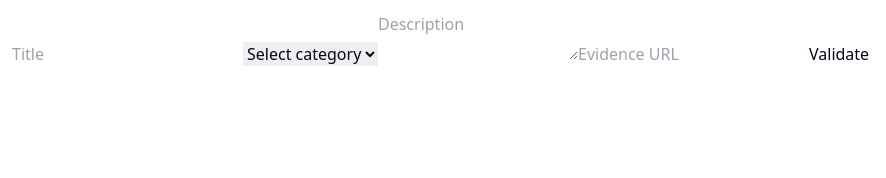
Contribution Flow Integration › Contribution Submission Workflow › should validate contribution data before submission
The width and height of the screenshot is (886, 178).
Click the button with test id "validate-button": [839, 54] box [809,42,869,66]
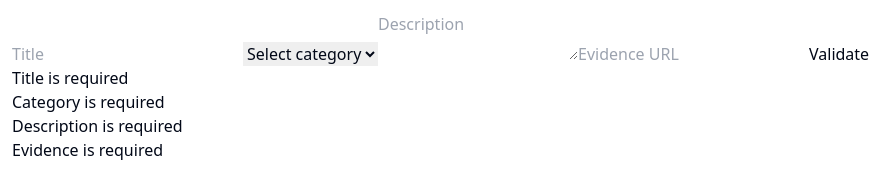
Now the text with test id "error-0" reads "Title is required", box [12,67,128,89]
Now the text with test id "error-1" reads "Category is required", box [12,91,165,113]
Now the text with test id "error-2" reads "Description is required", box [12,115,182,137]
